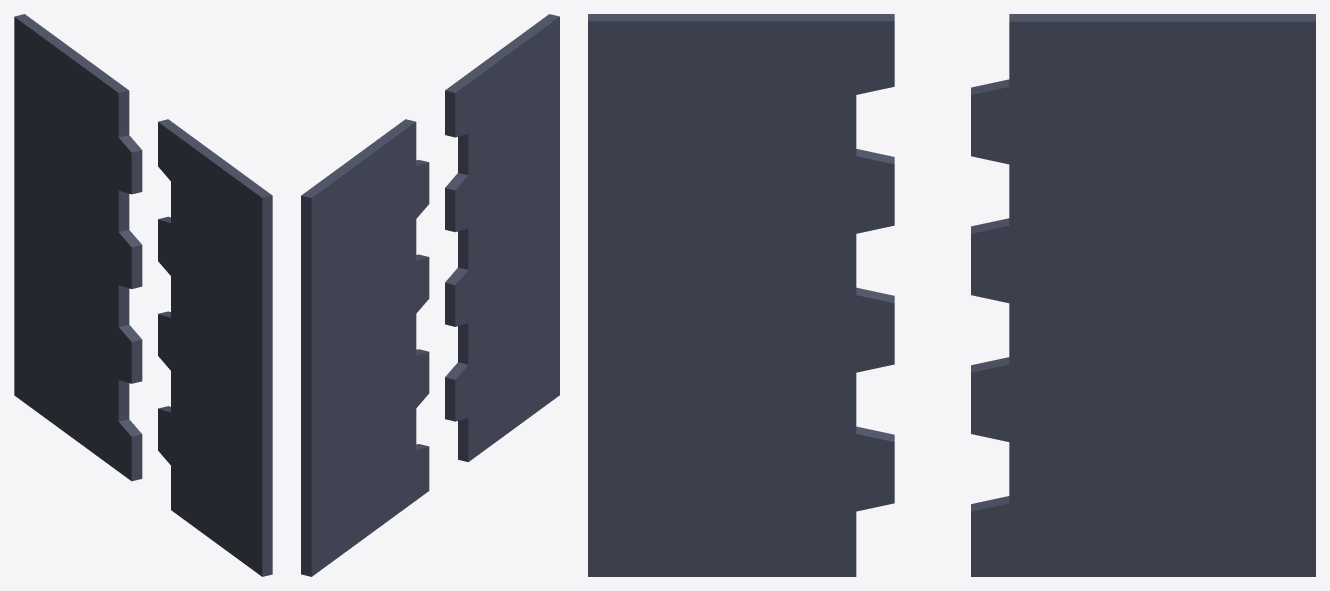
Rendered from largeDoor_block.fbx.
3 renders of one model, left to right at view 1: azimuth 30°, elevation 25°; view 2: azimuth 150°, elevation 25°; view 3: azimuth 270°, elevation 25°, orthographic. The views are drawn at different scales.
Visible parts, largest first — view 1: door1_tempBlock, door2_tempBlock; view 2: door1_tempBlock, door2_tempBlock; view 3: door1_tempBlock, door2_tempBlock.
Part boxes in pixels (x1,y1,x2,y2): door1_tempBlock: (14, 14, 142, 481); door2_tempBlock: (158, 119, 272, 576); door1_tempBlock: (301, 119, 429, 576); door2_tempBlock: (445, 14, 559, 462); door1_tempBlock: (971, 14, 1315, 576); door2_tempBlock: (588, 14, 894, 576).
Bounding box in the file's own units: 0.4666 × 16 × 19.
